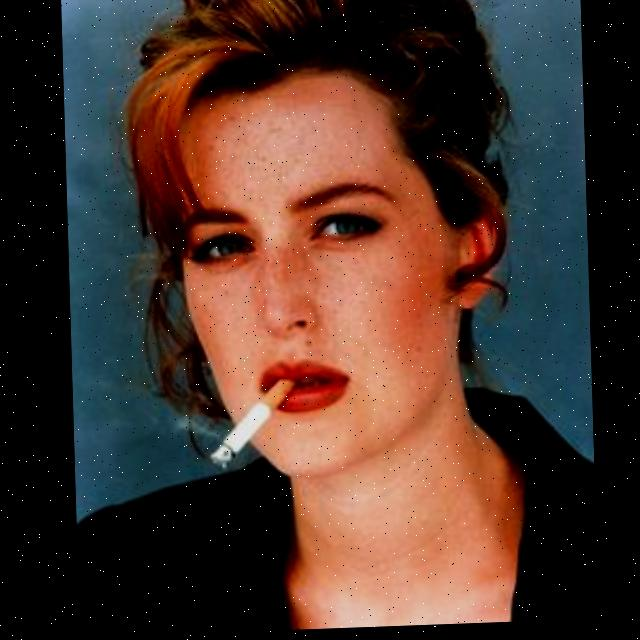cigarette: (202, 378, 292, 472)
